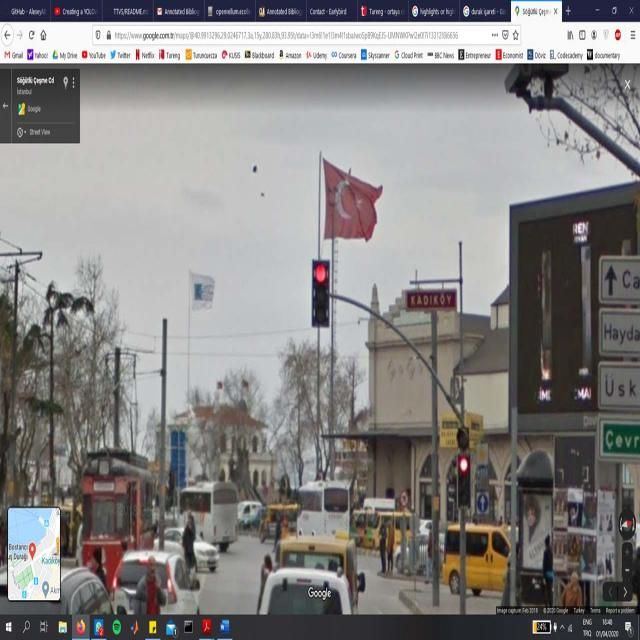kirmizi: (312, 261, 328, 323), (456, 452, 469, 505)
